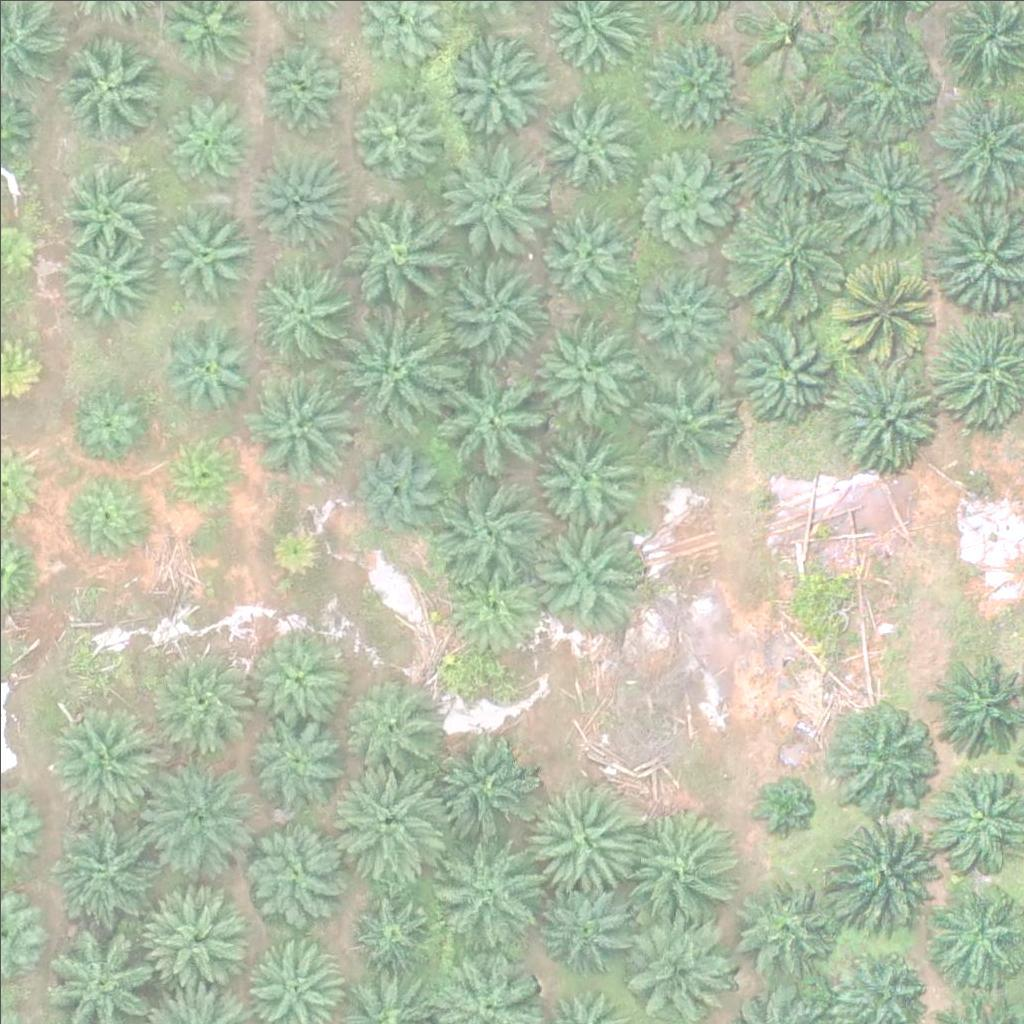Kelapa_Sawit: (52, 31, 165, 145), (437, 252, 550, 365), (735, 87, 848, 200), (731, 199, 844, 312), (436, 846, 549, 959), (423, 729, 536, 842), (529, 782, 642, 895), (632, 808, 745, 921), (340, 305, 453, 418), (434, 356, 547, 469), (529, 513, 642, 626), (732, 311, 845, 424), (828, 812, 941, 925), (439, 134, 551, 248), (53, 804, 165, 918), (49, 700, 161, 814), (147, 643, 259, 757), (345, 196, 457, 309), (139, 755, 251, 868), (139, 882, 251, 995), (332, 770, 444, 883), (244, 369, 356, 482), (429, 473, 541, 586), (527, 323, 639, 436), (633, 360, 745, 473), (830, 354, 942, 467), (827, 696, 939, 809), (56, 228, 156, 329), (162, 315, 262, 416), (155, 199, 255, 300), (249, 259, 349, 360), (344, 86, 444, 187), (444, 31, 544, 132), (539, 89, 639, 190), (641, 34, 741, 135), (843, 145, 943, 246), (841, 33, 941, 134), (245, 820, 345, 921), (243, 711, 343, 812), (348, 672, 448, 773), (535, 875, 635, 976), (442, 555, 542, 656), (534, 421, 634, 522), (731, 874, 831, 975), (253, 145, 353, 245), (638, 140, 738, 240), (837, 252, 937, 352), (243, 626, 343, 726), (164, 89, 252, 178), (59, 161, 147, 249), (259, 46, 347, 134), (60, 473, 148, 561), (60, 381, 148, 469), (352, 887, 440, 975), (347, 448, 435, 536), (540, 207, 627, 295), (638, 262, 725, 350), (160, 431, 247, 519), (746, 771, 821, 846), (267, 515, 330, 578)
